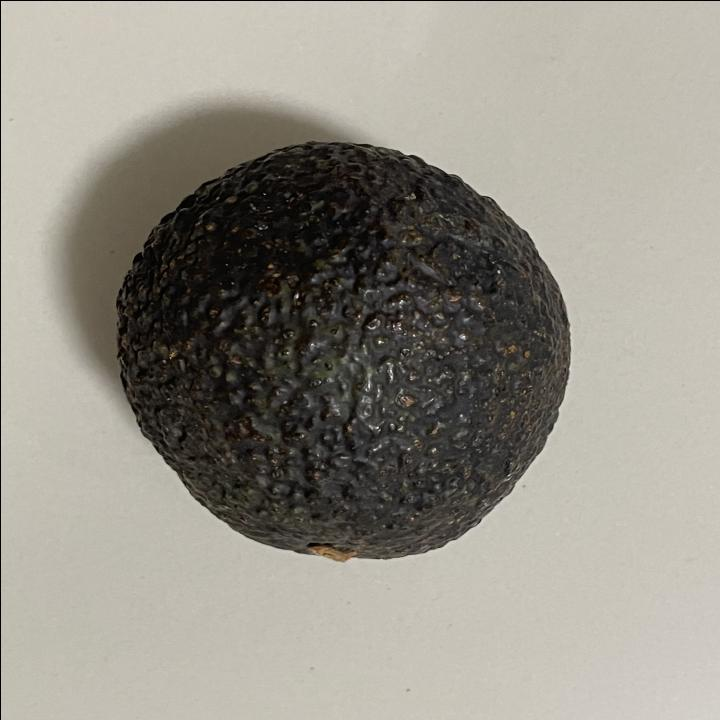Level1: (98, 122, 592, 577)
